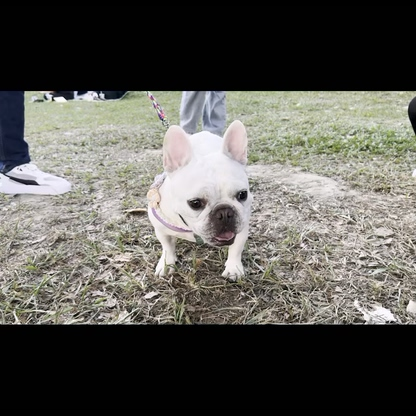bulldog: (144, 115, 256, 285)
